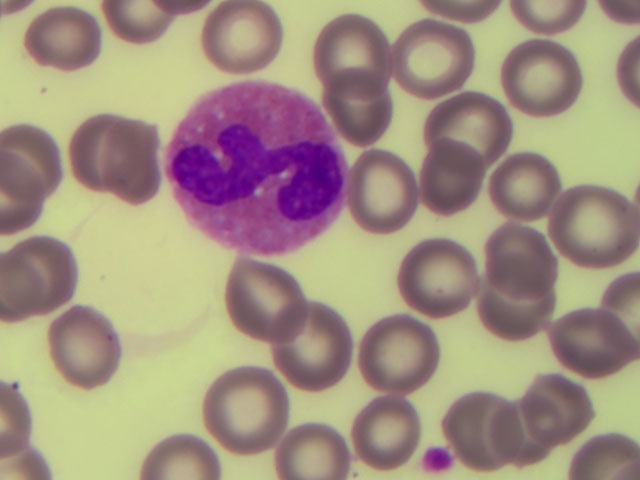Platelets: (419, 441, 453, 474)
RBC: (22, 2, 102, 77), (55, 112, 135, 187), (86, 129, 166, 204), (48, 307, 128, 382), (2, 233, 82, 308), (219, 263, 299, 338), (275, 306, 355, 381), (208, 370, 288, 445), (367, 317, 447, 392), (342, 390, 422, 465), (271, 405, 351, 480), (395, 241, 475, 316), (344, 153, 424, 228), (408, 141, 488, 216), (427, 90, 507, 165), (326, 77, 406, 152), (313, 13, 393, 88), (201, 1, 281, 76), (389, 19, 469, 94), (502, 37, 582, 112), (491, 134, 571, 209), (547, 187, 627, 262), (489, 220, 569, 295), (476, 271, 556, 346), (556, 306, 636, 381), (522, 374, 602, 449), (490, 402, 570, 477), (445, 390, 525, 465), (1, 351, 45, 446), (1, 133, 45, 228), (560, 433, 640, 480), (139, 432, 217, 480), (1, 434, 43, 480)
WBC: (170, 86, 340, 247)
